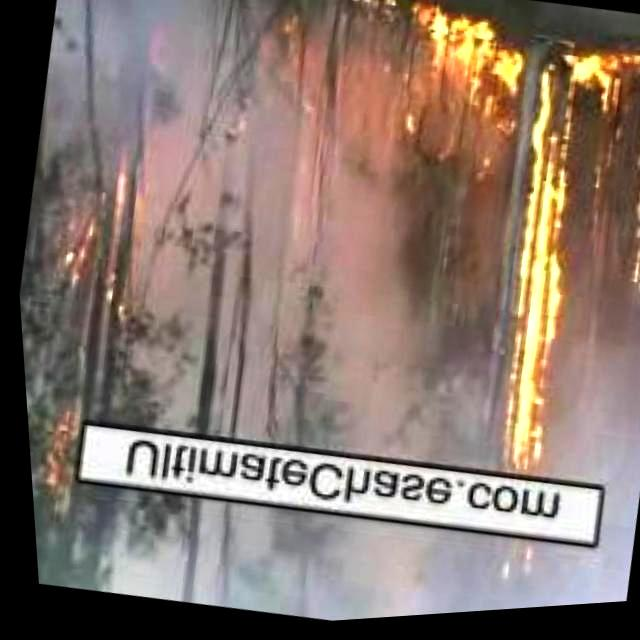fire: (450, 84, 618, 558), (372, 2, 528, 122), (48, 196, 130, 320), (20, 378, 94, 508), (612, 152, 640, 312), (563, 44, 640, 100)
